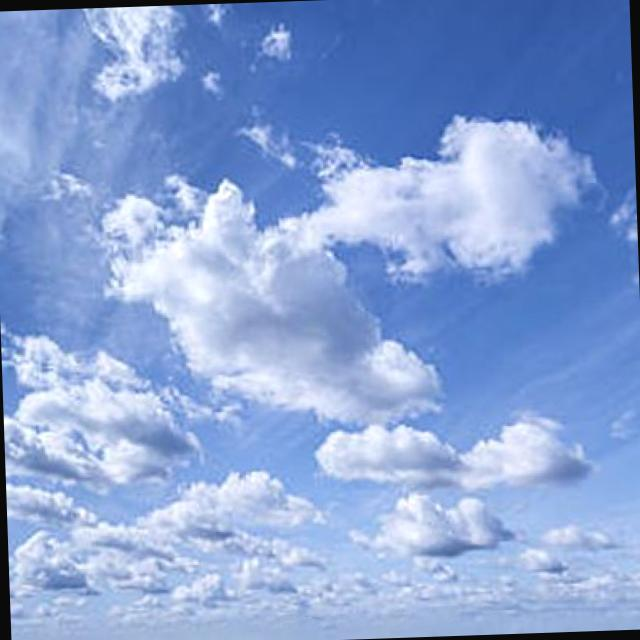cumulus: (86, 158, 468, 442), (274, 101, 610, 296)
